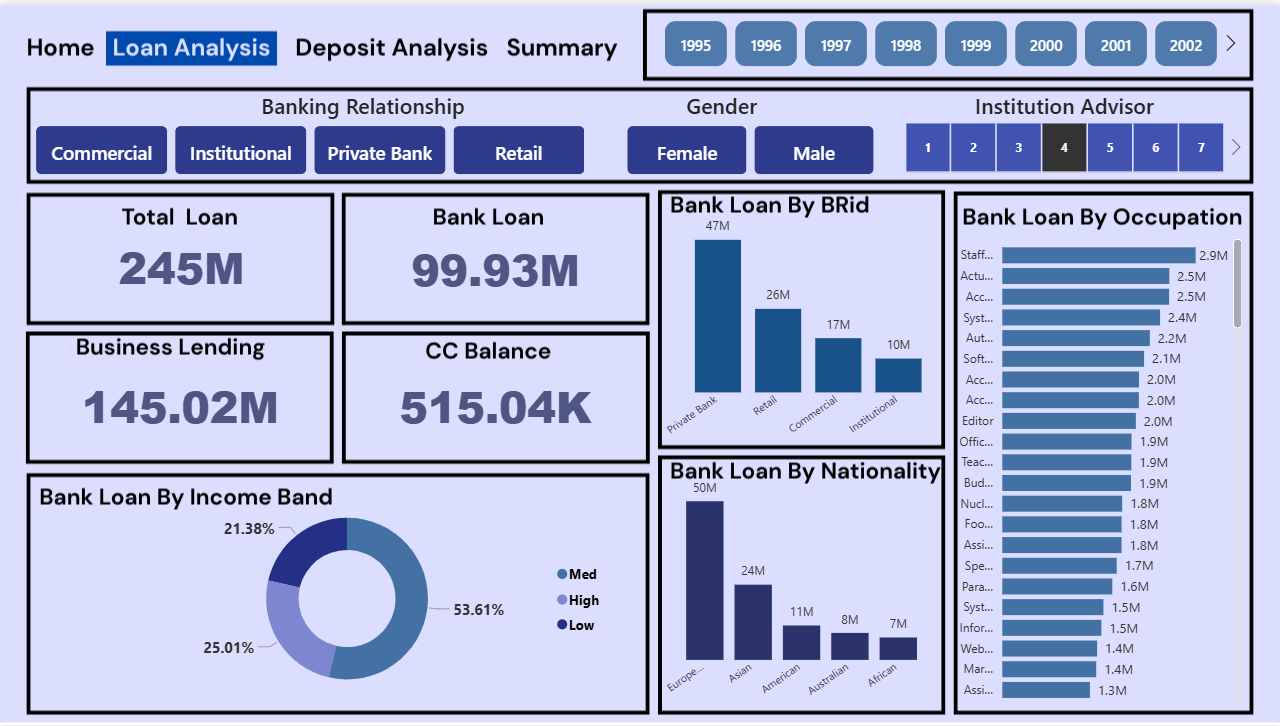

This screenshot's page, from the dashboard's own definition file:
{"tool":"powerbi","page":{"name":"Loan Analysis","canvas":[1280,720],"ordinal":1},"visuals":[{"type":"advancedSlicerVisual","fields":{"Values":["customer.Joined_Bank.Variation.Date Hierarchy.Year"]},"box":[640,11.7,606.7,55],"z":0},{"type":"card","fields":{"Values":["customer.Total Loan"]},"box":[94.3,221.4,175.7,81.4],"z":1000},{"type":"card","fields":{"Values":["Sum(customer.Bank_Loans)"]},"box":[378,222,236,82],"z":2000},{"type":"card","fields":{"Values":["Sum(customer.Business_Lending)"]},"box":[62.9,360,235.7,81.4],"z":3000},{"type":"card","fields":{"Values":["Sum(customer.Credit_Card_Balance)"]},"box":[378,360,236,82],"z":4000},{"type":"donutChart","fields":{"Category":["customer.Income_level"],"Y":["Sum(customer.Bank_Loans)"]},"box":[134.3,484.3,480,220],"z":5000},{"type":"columnChart","fields":{"Category":["customer.BRId"],"Y":["Sum(customer.Bank_Loans)"]},"box":[660,198.6,292.9,242.9],"z":6000},{"type":"columnChart","fields":{"Y":["Sum(customer.Bank_Loans)"],"Category":["customer.Nationality"]},"box":[660,461.4,282.9,242.9],"z":7000},{"type":"clusteredBarChart","fields":{"Category":["customer.Occupation"],"Y":["Sum(customer.Bank_Loans)"]},"box":[942.9,221.4,304.3,485.7],"z":8000},{"type":"advancedSlicerVisual","fields":{"Values":["customer.GenderId"]},"box":[622.9,115.7,257.1,58.6],"z":9000},{"type":"advancedSlicerVisual","fields":{"Values":["customer.BRId"]},"box":[31.4,115.7,561.4,58.6],"z":10000},{"type":"slicer","fields":{"Values":["customer.IAId"]},"box":[880,111.4,367.1,62.9],"z":11000},{"type":"textbox","box":[672.9,81.4,98.6,47.1],"z":12000},{"type":"textbox","box":[255.7,81.4,220,47.1],"z":13000},{"type":"textbox","box":[970,81.4,240,47.1],"z":14000},{"type":"actionButton","box":[18.6,22.9,87.1,31.4],"z":14001}]}

Visuals, with their boxes in screenshot pixels (x1, y1, x2, y2), scaled from the page's 1280x720 canvas onto the 1280x726 screenshot:
advancedSlicerVisual - customer.Joined_Bank.Variation.Date Hierarchy.Year: pyautogui.locateOnScreen(640, 12, 1247, 67)
card - customer.Total Loan: pyautogui.locateOnScreen(94, 223, 270, 305)
card - Sum(customer.Bank_Loans): pyautogui.locateOnScreen(378, 224, 614, 307)
card - Sum(customer.Business_Lending): pyautogui.locateOnScreen(63, 363, 299, 445)
card - Sum(customer.Credit_Card_Balance): pyautogui.locateOnScreen(378, 363, 614, 446)
donutChart - customer.Income_level x Sum(customer.Bank_Loans): pyautogui.locateOnScreen(134, 488, 614, 710)
columnChart - customer.BRId x Sum(customer.Bank_Loans): pyautogui.locateOnScreen(660, 200, 953, 445)
columnChart - Sum(customer.Bank_Loans) x customer.Nationality: pyautogui.locateOnScreen(660, 465, 943, 710)
clusteredBarChart - customer.Occupation x Sum(customer.Bank_Loans): pyautogui.locateOnScreen(943, 223, 1247, 713)
advancedSlicerVisual - customer.GenderId: pyautogui.locateOnScreen(623, 117, 880, 176)
advancedSlicerVisual - customer.BRId: pyautogui.locateOnScreen(31, 117, 593, 176)
slicer - customer.IAId: pyautogui.locateOnScreen(880, 112, 1247, 176)
textbox: pyautogui.locateOnScreen(673, 82, 772, 130)
textbox: pyautogui.locateOnScreen(256, 82, 476, 130)
textbox: pyautogui.locateOnScreen(970, 82, 1210, 130)
actionButton: pyautogui.locateOnScreen(19, 23, 106, 55)
